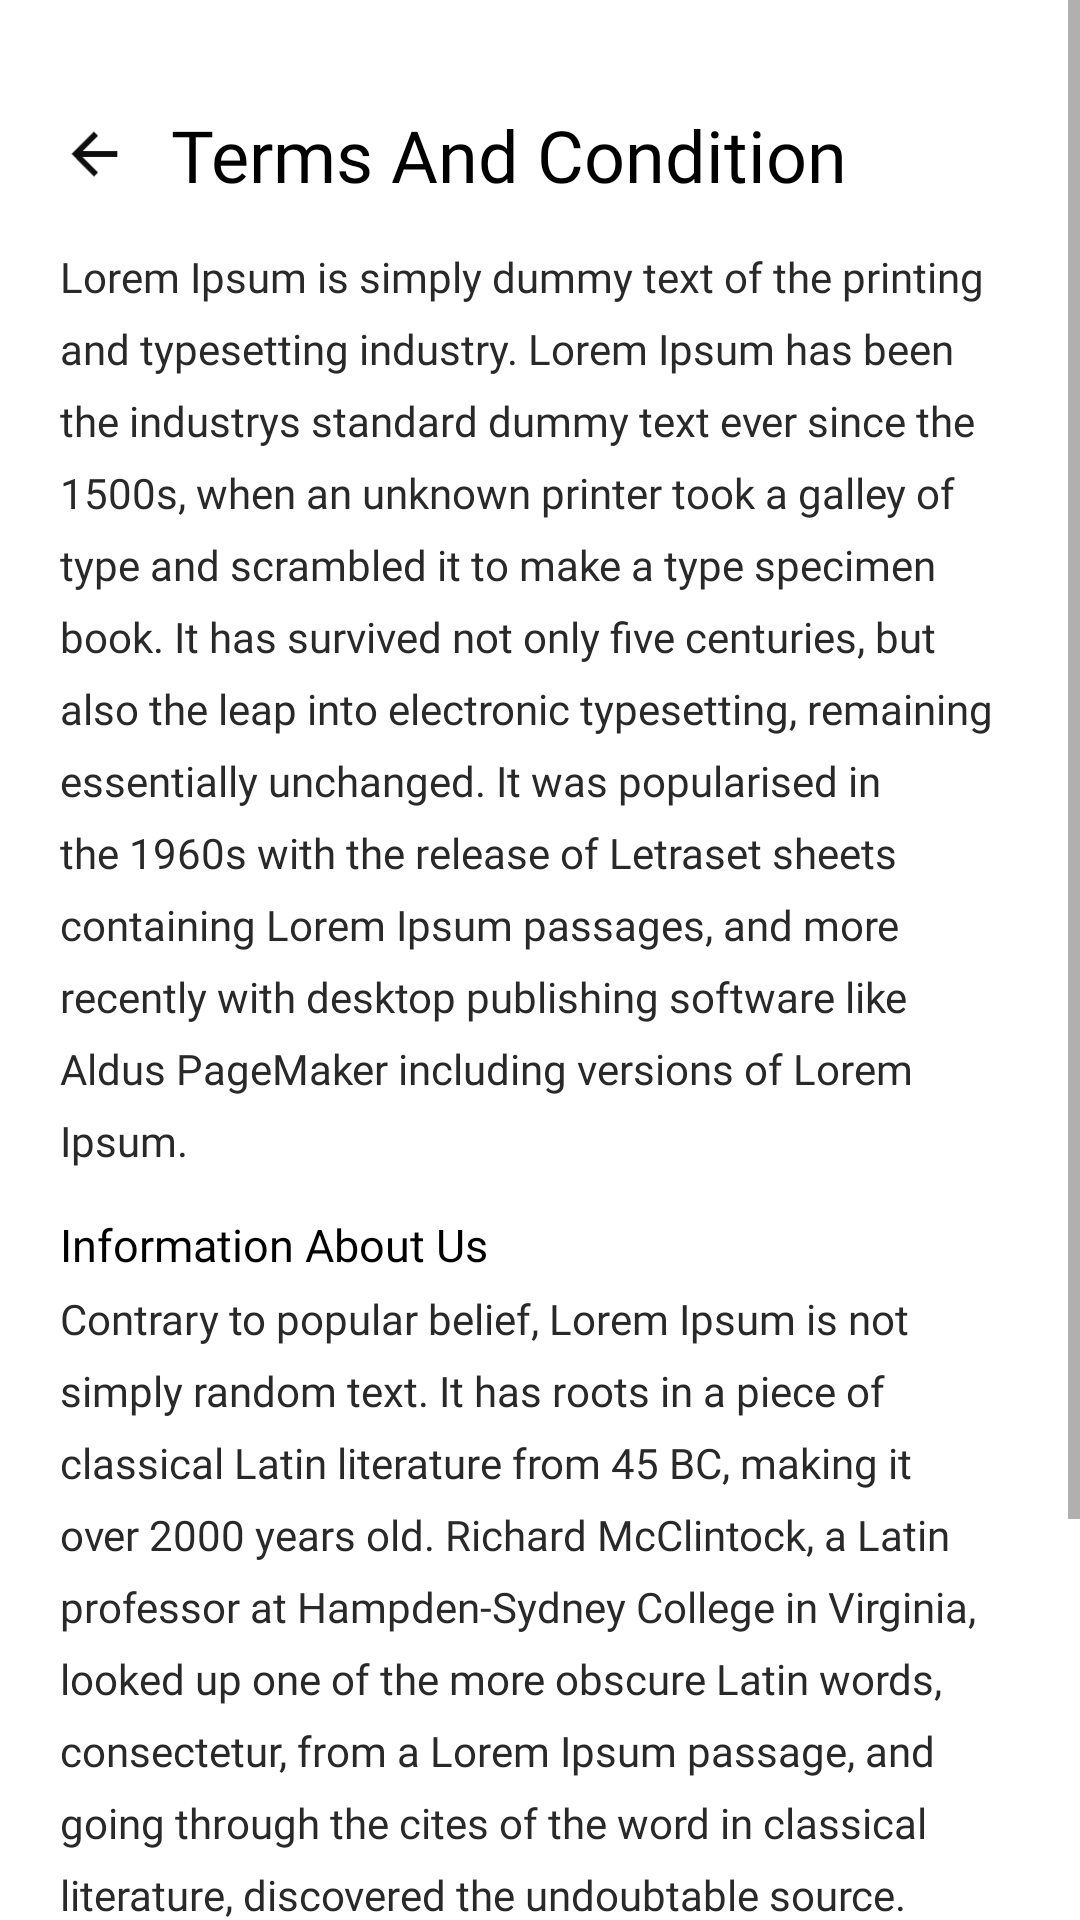

Icons on this 1080 x 1920 Android screen, each with its box as [left=x1, top=y1, right=x2, bottom=y2]:
back: [left=71, top=131, right=118, bottom=177]
